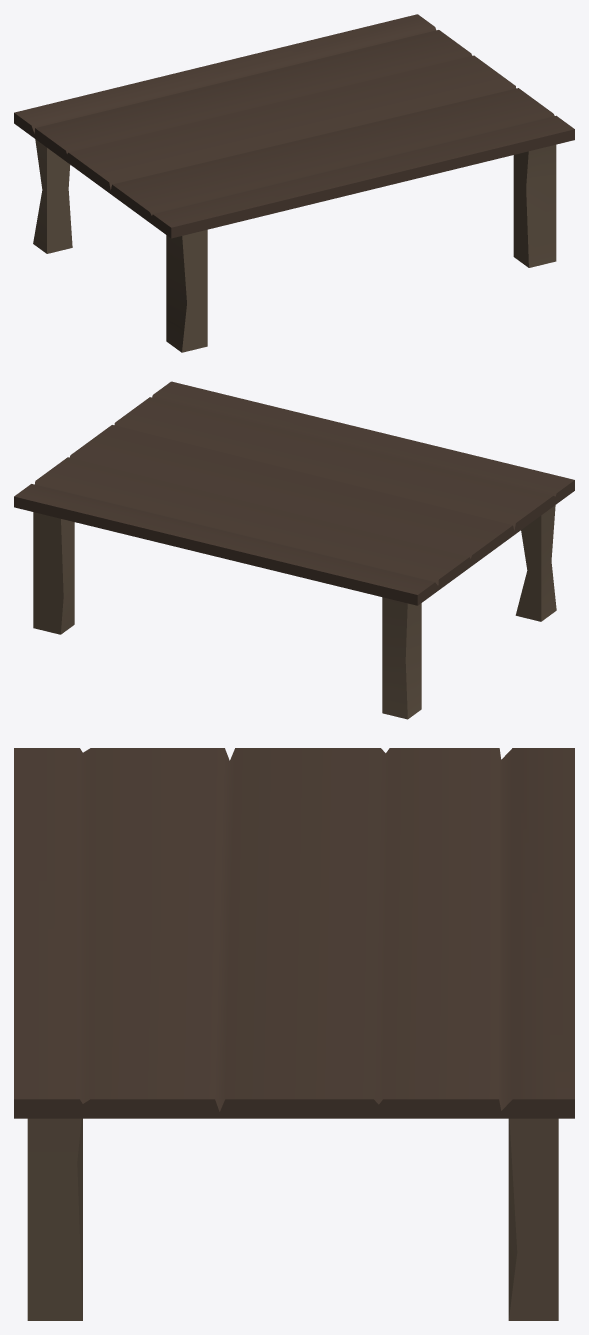
File: TableLP.fbx
3 views of the same model, one above another, from view 1: azimuth 30°, elevation 25°; view 2: azimuth 150°, elevation 25°; view 3: azimuth 270°, elevation 25° (orthographic). The views are drawn at different scales.
Visible parts, largest first — view 1: Table; view 2: Table; view 3: Table.
Boxes of the visible parts, x1,y1,x2,y2 form: Table: [14, 14, 574, 352]; Table: [14, 381, 574, 719]; Table: [14, 748, 574, 1320].
Size of the model in its own units: 13.95 by 4.34 by 9.41.
